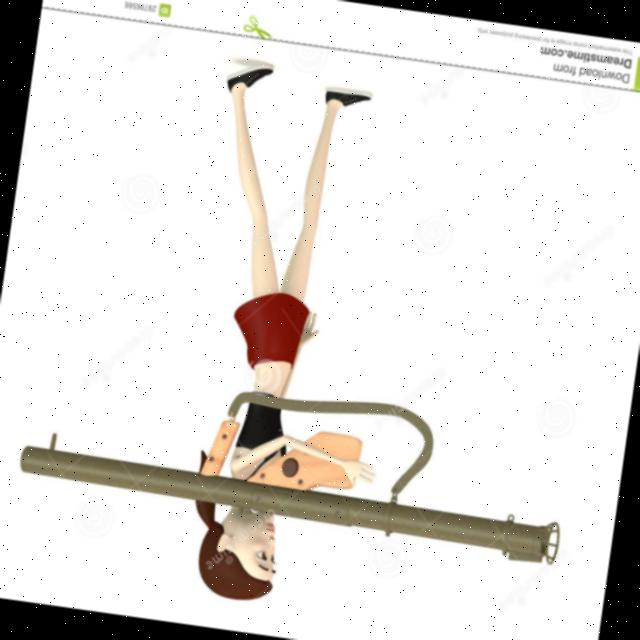Bazooka: (11, 366, 571, 580)
